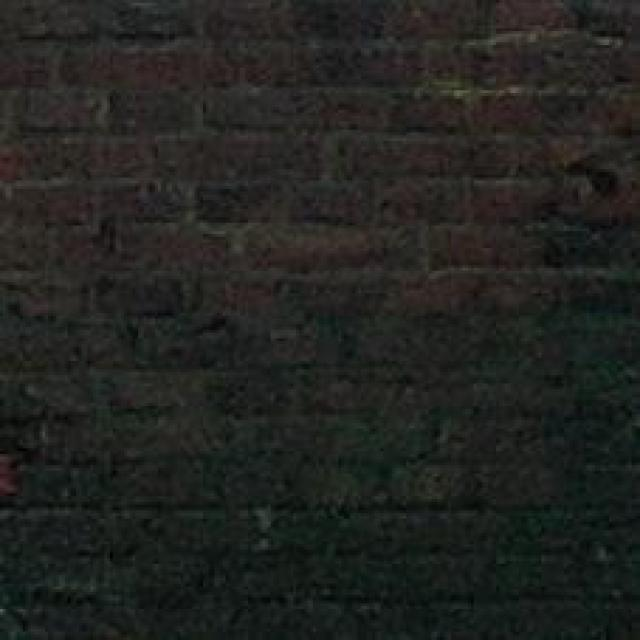Crack: (157, 435, 563, 640)
